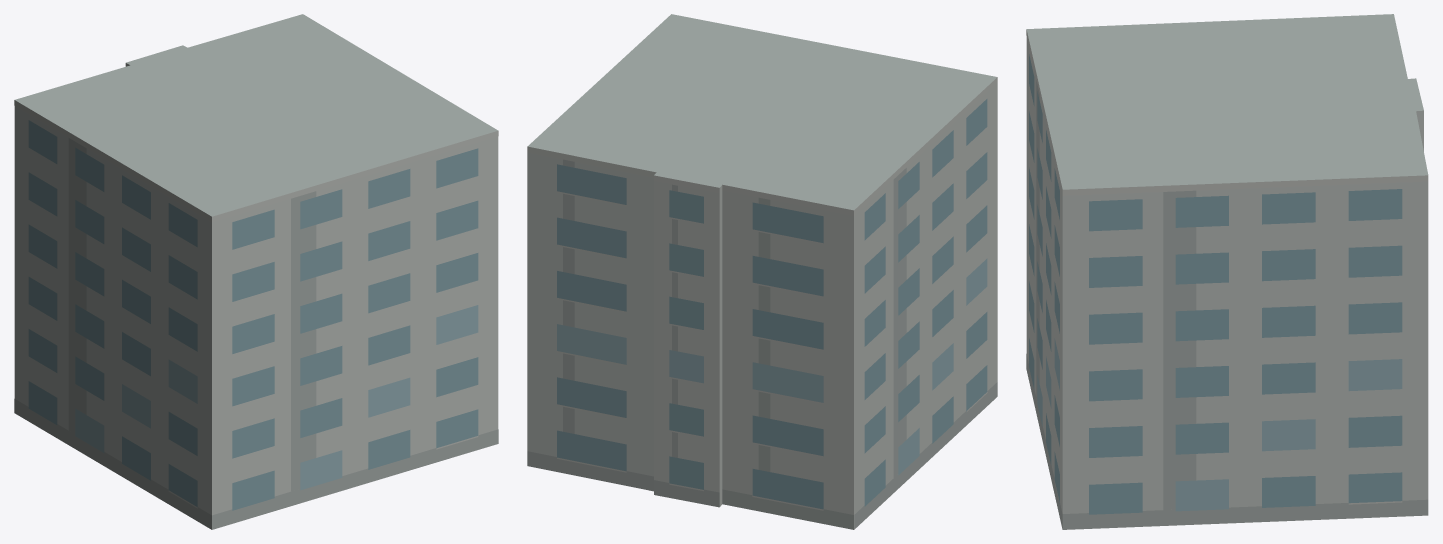
The model's file is survey-upis-32849481.glb.
The picture shows the model from 3 angles, left to right: view 1: azimuth 30°, elevation 25°; view 2: azimuth 150°, elevation 25°; view 3: azimuth 270°, elevation 25°; orthographic projection. The views are drawn at different scales.
Visible parts, largest first — view 1: survey-upis-32849481.tmp; view 2: survey-upis-32849481.tmp; view 3: survey-upis-32849481.tmp.
Boxes of the visible parts, x1,y1,x2,y2 form: survey-upis-32849481.tmp: [14, 14, 498, 529]; survey-upis-32849481.tmp: [527, 14, 997, 529]; survey-upis-32849481.tmp: [1026, 14, 1428, 529].
Bounding box in the file's own units: 14.8 × 13.35 × 14.3.
